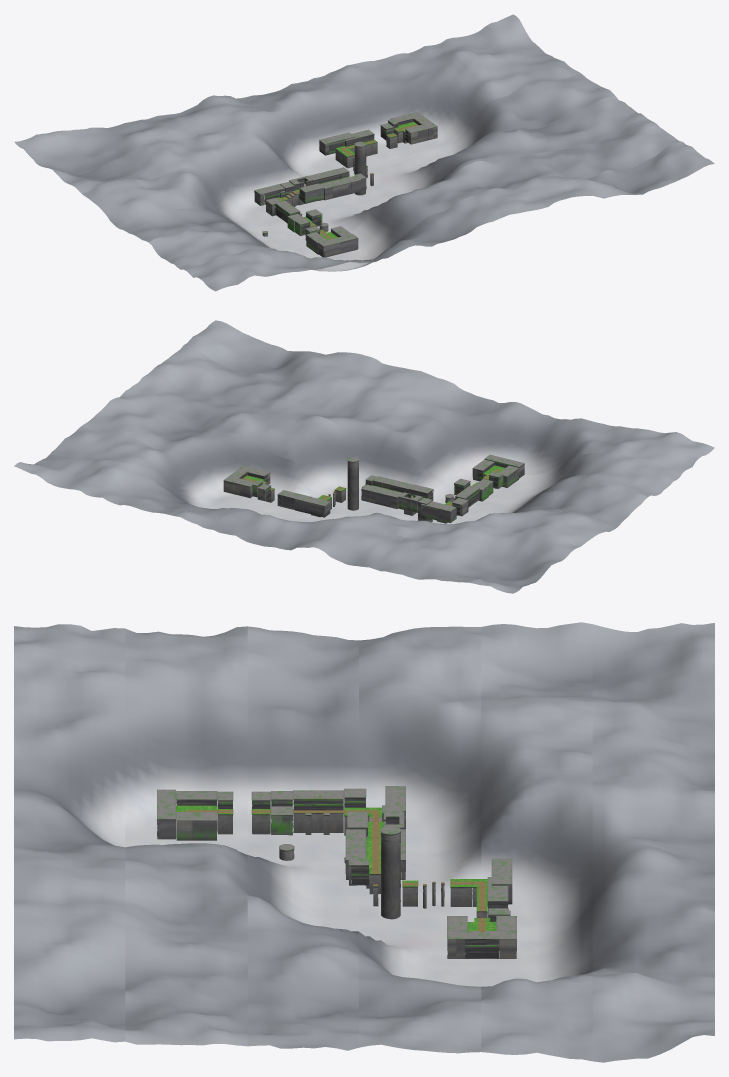
The model's file is thunder_peak_terrain.glb.
3 renders of one model, top to bottom at view 1: azimuth 30°, elevation 25°; view 2: azimuth 150°, elevation 25°; view 3: azimuth 270°, elevation 25°, orthographic. The views are drawn at different scales.
Parts seen in each view (by area): view 1: backdrop_5, backdrop_4, backdrop_3, backdrop_1, backdrop_0, backdrop_2, terrain_D, terrain_A, terrain_E, terrain_J, terrain_H, terrain_B (+3 smaller); view 2: backdrop_0, backdrop_1, backdrop_5, backdrop_2, backdrop_3, backdrop_4, terrain_D, terrain_E, terrain_A, terrain_J, terrain_F, terrain_H (+3 smaller); view 3: backdrop_5, backdrop_1, backdrop_0, backdrop_4, backdrop_3, backdrop_2, terrain_F, terrain_C, terrain_A, terrain_J, terrain_B, terrain_D (+3 smaller).
Boxes of the visible parts, x1,y1,x2,y2 form: backdrop_5: (14, 14, 547, 174); backdrop_4: (50, 54, 579, 193); backdrop_3: (81, 73, 614, 227); backdrop_1: (149, 118, 682, 271); backdrop_0: (184, 142, 714, 291); backdrop_2: (117, 96, 647, 250); terrain_D: (254, 175, 324, 206); terrain_A: (306, 226, 358, 257); terrain_E: (308, 167, 360, 200); terrain_J: (390, 112, 437, 144); terrain_H: (319, 131, 372, 163); terrain_B: (287, 209, 326, 240); backdrop_0: (184, 320, 714, 474); backdrop_1: (149, 345, 682, 505); backdrop_5: (14, 455, 547, 593); backdrop_2: (116, 373, 647, 528); backdrop_3: (81, 398, 615, 546); backdrop_4: (49, 426, 579, 575); terrain_D: (398, 484, 456, 523); terrain_E: (361, 476, 413, 509); terrain_A: (472, 454, 524, 488); terrain_J: (223, 465, 270, 498); terrain_F: (334, 457, 377, 510); terrain_H: (282, 491, 330, 517); backdrop_5: (592, 623, 714, 1062); backdrop_1: (125, 626, 247, 1046); backdrop_0: (14, 624, 125, 1042); backdrop_4: (481, 622, 592, 1061); backdrop_3: (359, 626, 481, 1053); backdrop_2: (247, 626, 358, 1050); terrain_F: (348, 825, 418, 919); terrain_C: (279, 788, 366, 863); terrain_A: (157, 789, 217, 840); terrain_J: (447, 916, 516, 958); terrain_B: (217, 791, 292, 835); terrain_D: (347, 786, 405, 837).
Size of the model in its own units: 630 by 90.77 by 441.
